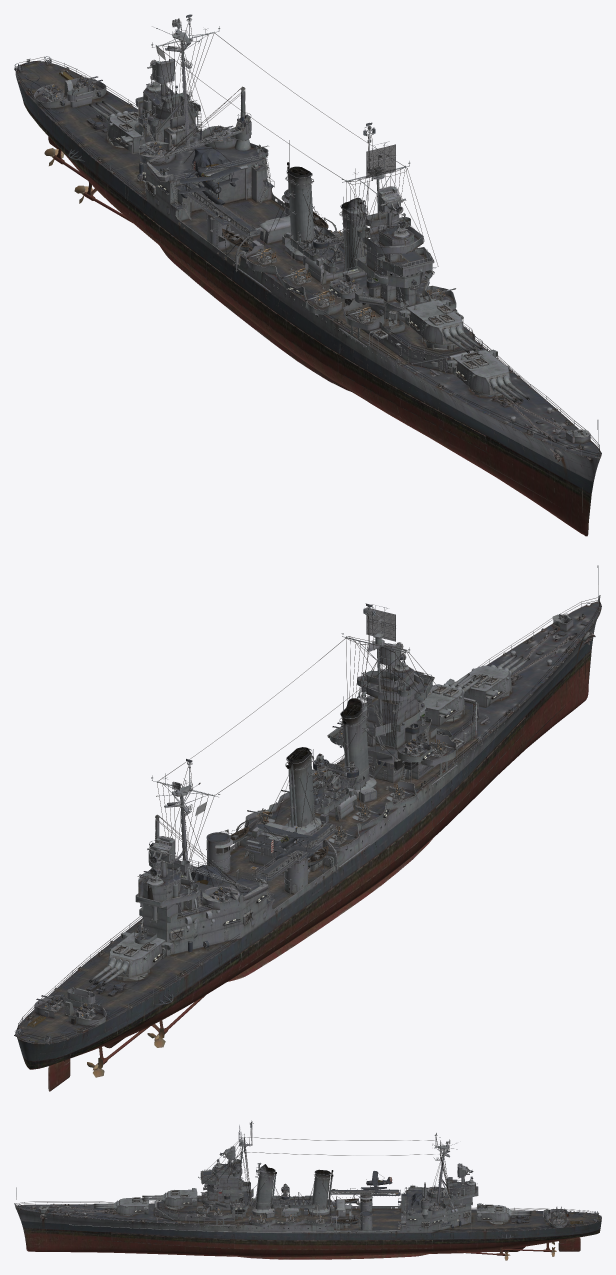
The model's file is uss_new_orleans_war_thunder-maximum-compressed.glb.
The picture shows the model from 3 angles, top to bottom: view 1: azimuth 30°, elevation 25°; view 2: azimuth 150°, elevation 25°; view 3: azimuth 270°, elevation 25°; orthographic projection. The views are drawn at different scales.
Parts seen in each view (by area): view 1: Object_80, Object_5, Object_78, Object_7, Object_61, Object_16, Object_6, Object_43, Object_41, Object_34, Object_33, Object_42 (+18 smaller); view 2: Object_80, Object_5, Object_78, Object_7, Object_61, Object_6, Object_44, Object_41, Object_16, Object_43, Object_42, Object_34 (+19 smaller); view 3: Object_80, Object_78, Object_5, Object_16, Object_61, Object_7, Object_6, Object_42, Object_41, Object_43, Object_44, Object_34 (+19 smaller).
Boxes of the visible parts, bbox=[...] form: Object_80: bbox=[22, 99, 591, 536]; Object_5: bbox=[18, 62, 475, 365]; Object_78: bbox=[16, 62, 598, 494]; Object_7: bbox=[15, 61, 600, 520]; Object_61: bbox=[17, 21, 599, 455]; Object_16: bbox=[240, 228, 600, 482]; Object_6: bbox=[138, 86, 475, 359]; Object_43: bbox=[361, 212, 437, 306]; Object_41: bbox=[242, 140, 315, 261]; Object_34: bbox=[106, 111, 464, 350]; Object_33: bbox=[89, 101, 529, 403]; Object_42: bbox=[290, 180, 368, 284]; Object_80: bbox=[22, 650, 591, 1091]; Object_5: bbox=[18, 701, 479, 1043]; Object_78: bbox=[16, 565, 598, 1077]; Object_7: bbox=[16, 602, 601, 1044]; Object_61: bbox=[17, 597, 599, 1040]; Object_6: bbox=[138, 665, 475, 918]; Object_44: bbox=[140, 866, 269, 955]; Object_41: bbox=[241, 747, 322, 871]; Object_16: bbox=[244, 602, 601, 868]; Object_43: bbox=[360, 663, 437, 750]; Object_42: bbox=[313, 675, 376, 822]; Object_34: bbox=[107, 684, 464, 980]; Object_80: bbox=[23, 1228, 600, 1259]; Object_78: bbox=[16, 1184, 601, 1260]; Object_5: bbox=[156, 1198, 599, 1232]; Object_16: bbox=[15, 1201, 334, 1233]; Object_61: bbox=[15, 1128, 598, 1231]; Object_7: bbox=[16, 1201, 601, 1242]; Object_6: bbox=[156, 1164, 477, 1224]; Object_42: bbox=[251, 1163, 315, 1216]; Object_41: bbox=[308, 1169, 351, 1229]; Object_43: bbox=[198, 1160, 251, 1203]; Object_44: bbox=[406, 1190, 472, 1232]; Object_34: bbox=[164, 1188, 509, 1224].
Bounding box in the file's own units: 22.77 × 44.03 × 180.
27 materials, 27 textured.
